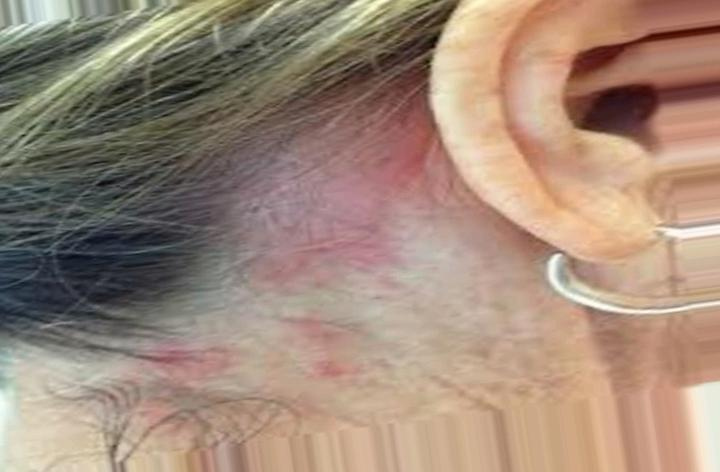Contact Dermatitis: (161, 61, 443, 364)
